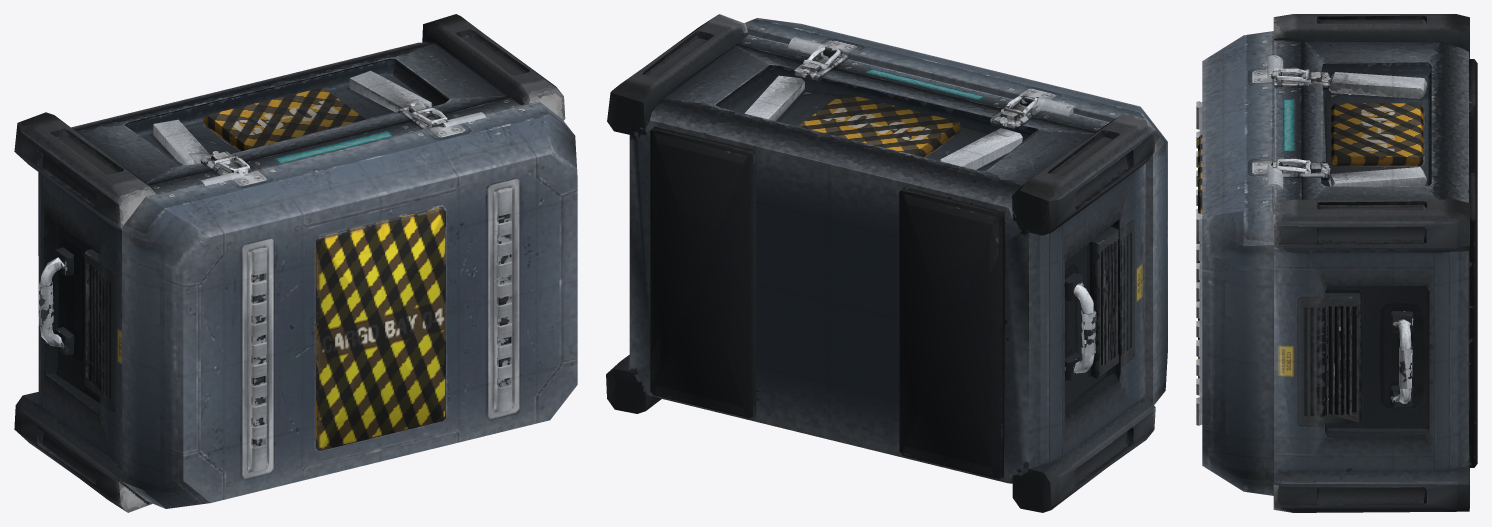
Rendered from sci_fi_crate_roblox.glb.
3 views of the same model, side by side, from view 1: azimuth 30°, elevation 25°; view 2: azimuth 150°, elevation 25°; view 3: azimuth 270°, elevation 25° (orthographic). The views are drawn at different scales.
Parts seen in each view (by area): view 1: lid_mesh, sci_fi_crate_Body; view 2: sci_fi_crate_Body, lid_mesh; view 3: sci_fi_crate_Body, lid_mesh.
Part boxes in pixels (x1,y1,x2,y2): lid_mesh: [122, 101, 577, 508]; sci_fi_crate_Body: [14, 14, 565, 512]; sci_fi_crate_Body: [606, 14, 1155, 512]; lid_mesh: [744, 18, 1167, 404]; sci_fi_crate_Body: [1269, 14, 1477, 512]; lid_mesh: [1196, 31, 1283, 495].
Bounding box in the file's own units: 3.4 × 2.25 × 1.9.
3 materials, 2 textured.
